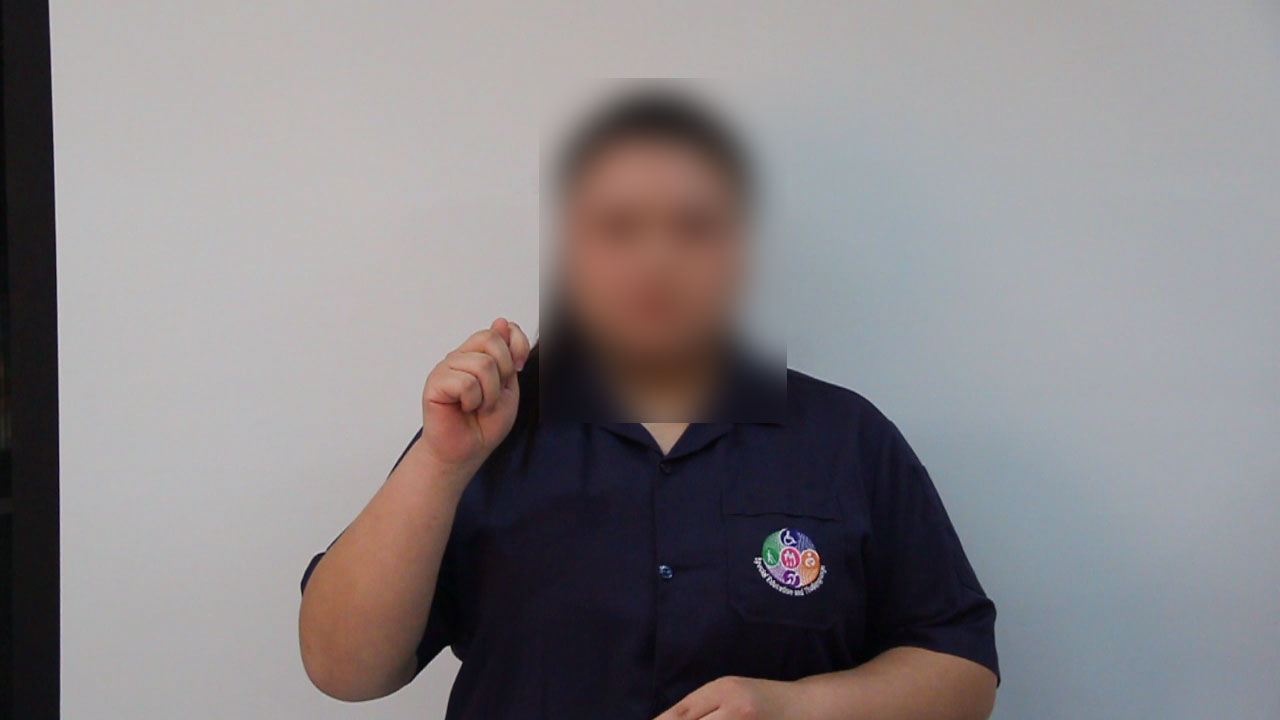tor: (402, 299, 547, 485)
